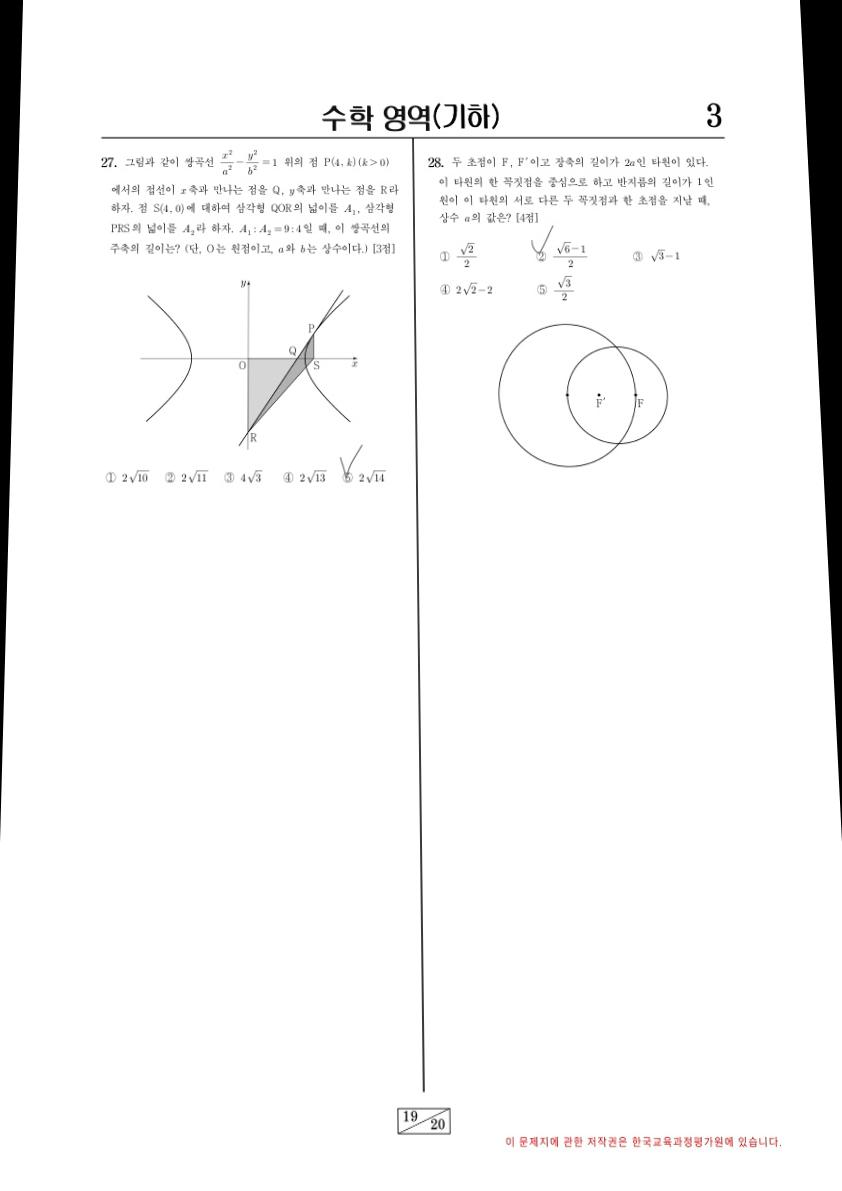question: (76, 144, 409, 508), (416, 143, 724, 479)
